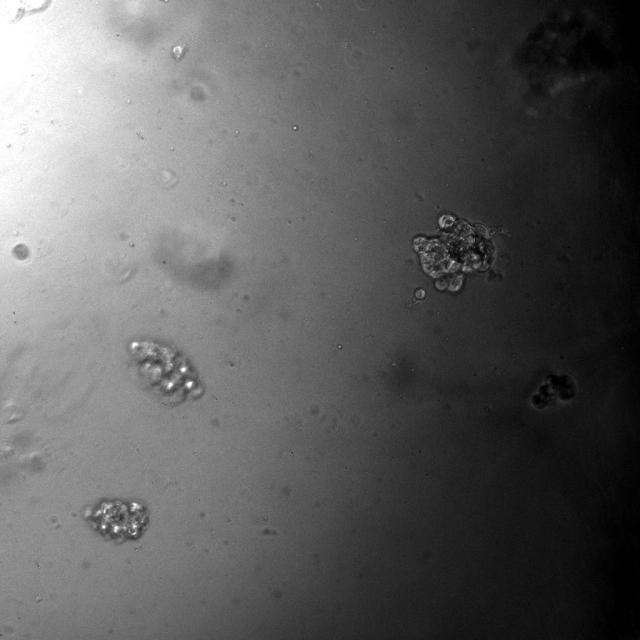organoid: (411, 210, 509, 294), (129, 340, 203, 401), (85, 498, 148, 541), (531, 373, 576, 410), (0, 0, 51, 22), (404, 287, 426, 311), (171, 43, 188, 61), (12, 243, 29, 260)
